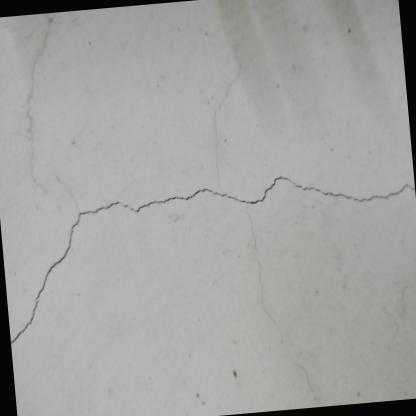crack: (11, 176, 415, 345)
